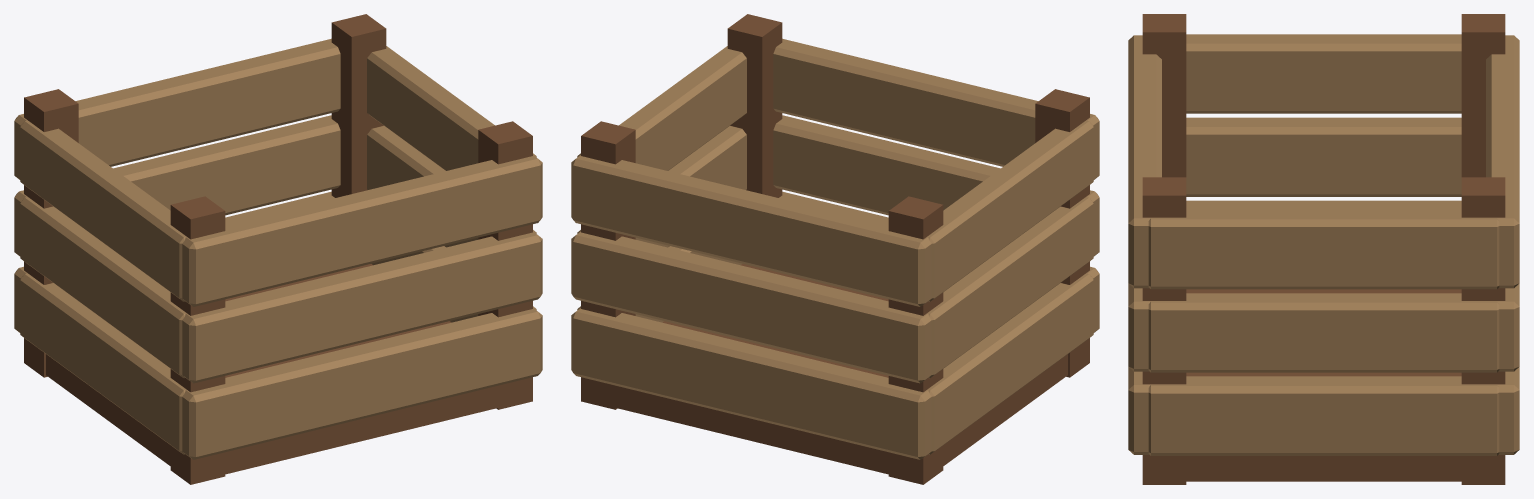
File: Caja_Madera.fbx
The picture shows the model from 3 angles, left to right: view 1: azimuth 30°, elevation 25°; view 2: azimuth 150°, elevation 25°; view 3: azimuth 270°, elevation 25°; orthographic projection. The views are drawn at different scales.
Visible parts, largest first — view 1: Caja_Madera; view 2: Caja_Madera; view 3: Caja_Madera.
Part boxes in pixels (<box>): Caja_Madera: <box>14,14,542,484</box>; Caja_Madera: <box>571,14,1099,484</box>; Caja_Madera: <box>1128,14,1519,484</box>.
Bounding box in the file's own units: 0.93 × 0.66 × 0.81.
